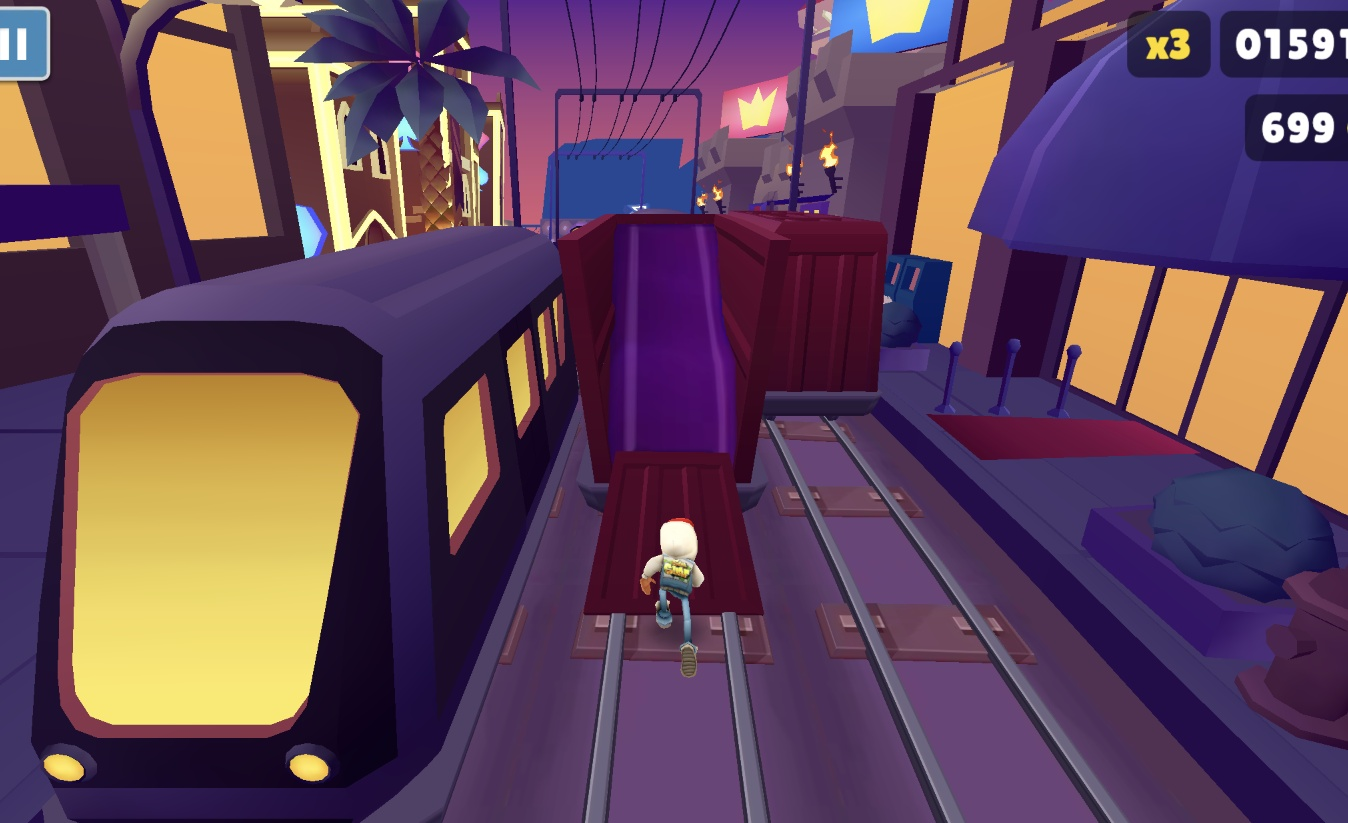train: (27, 225, 570, 823), (555, 212, 771, 618), (715, 209, 893, 416)
